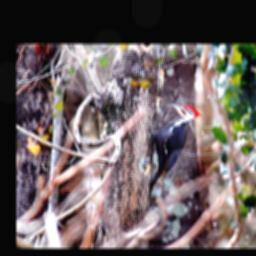Woodpecker: (148, 102, 206, 198)
